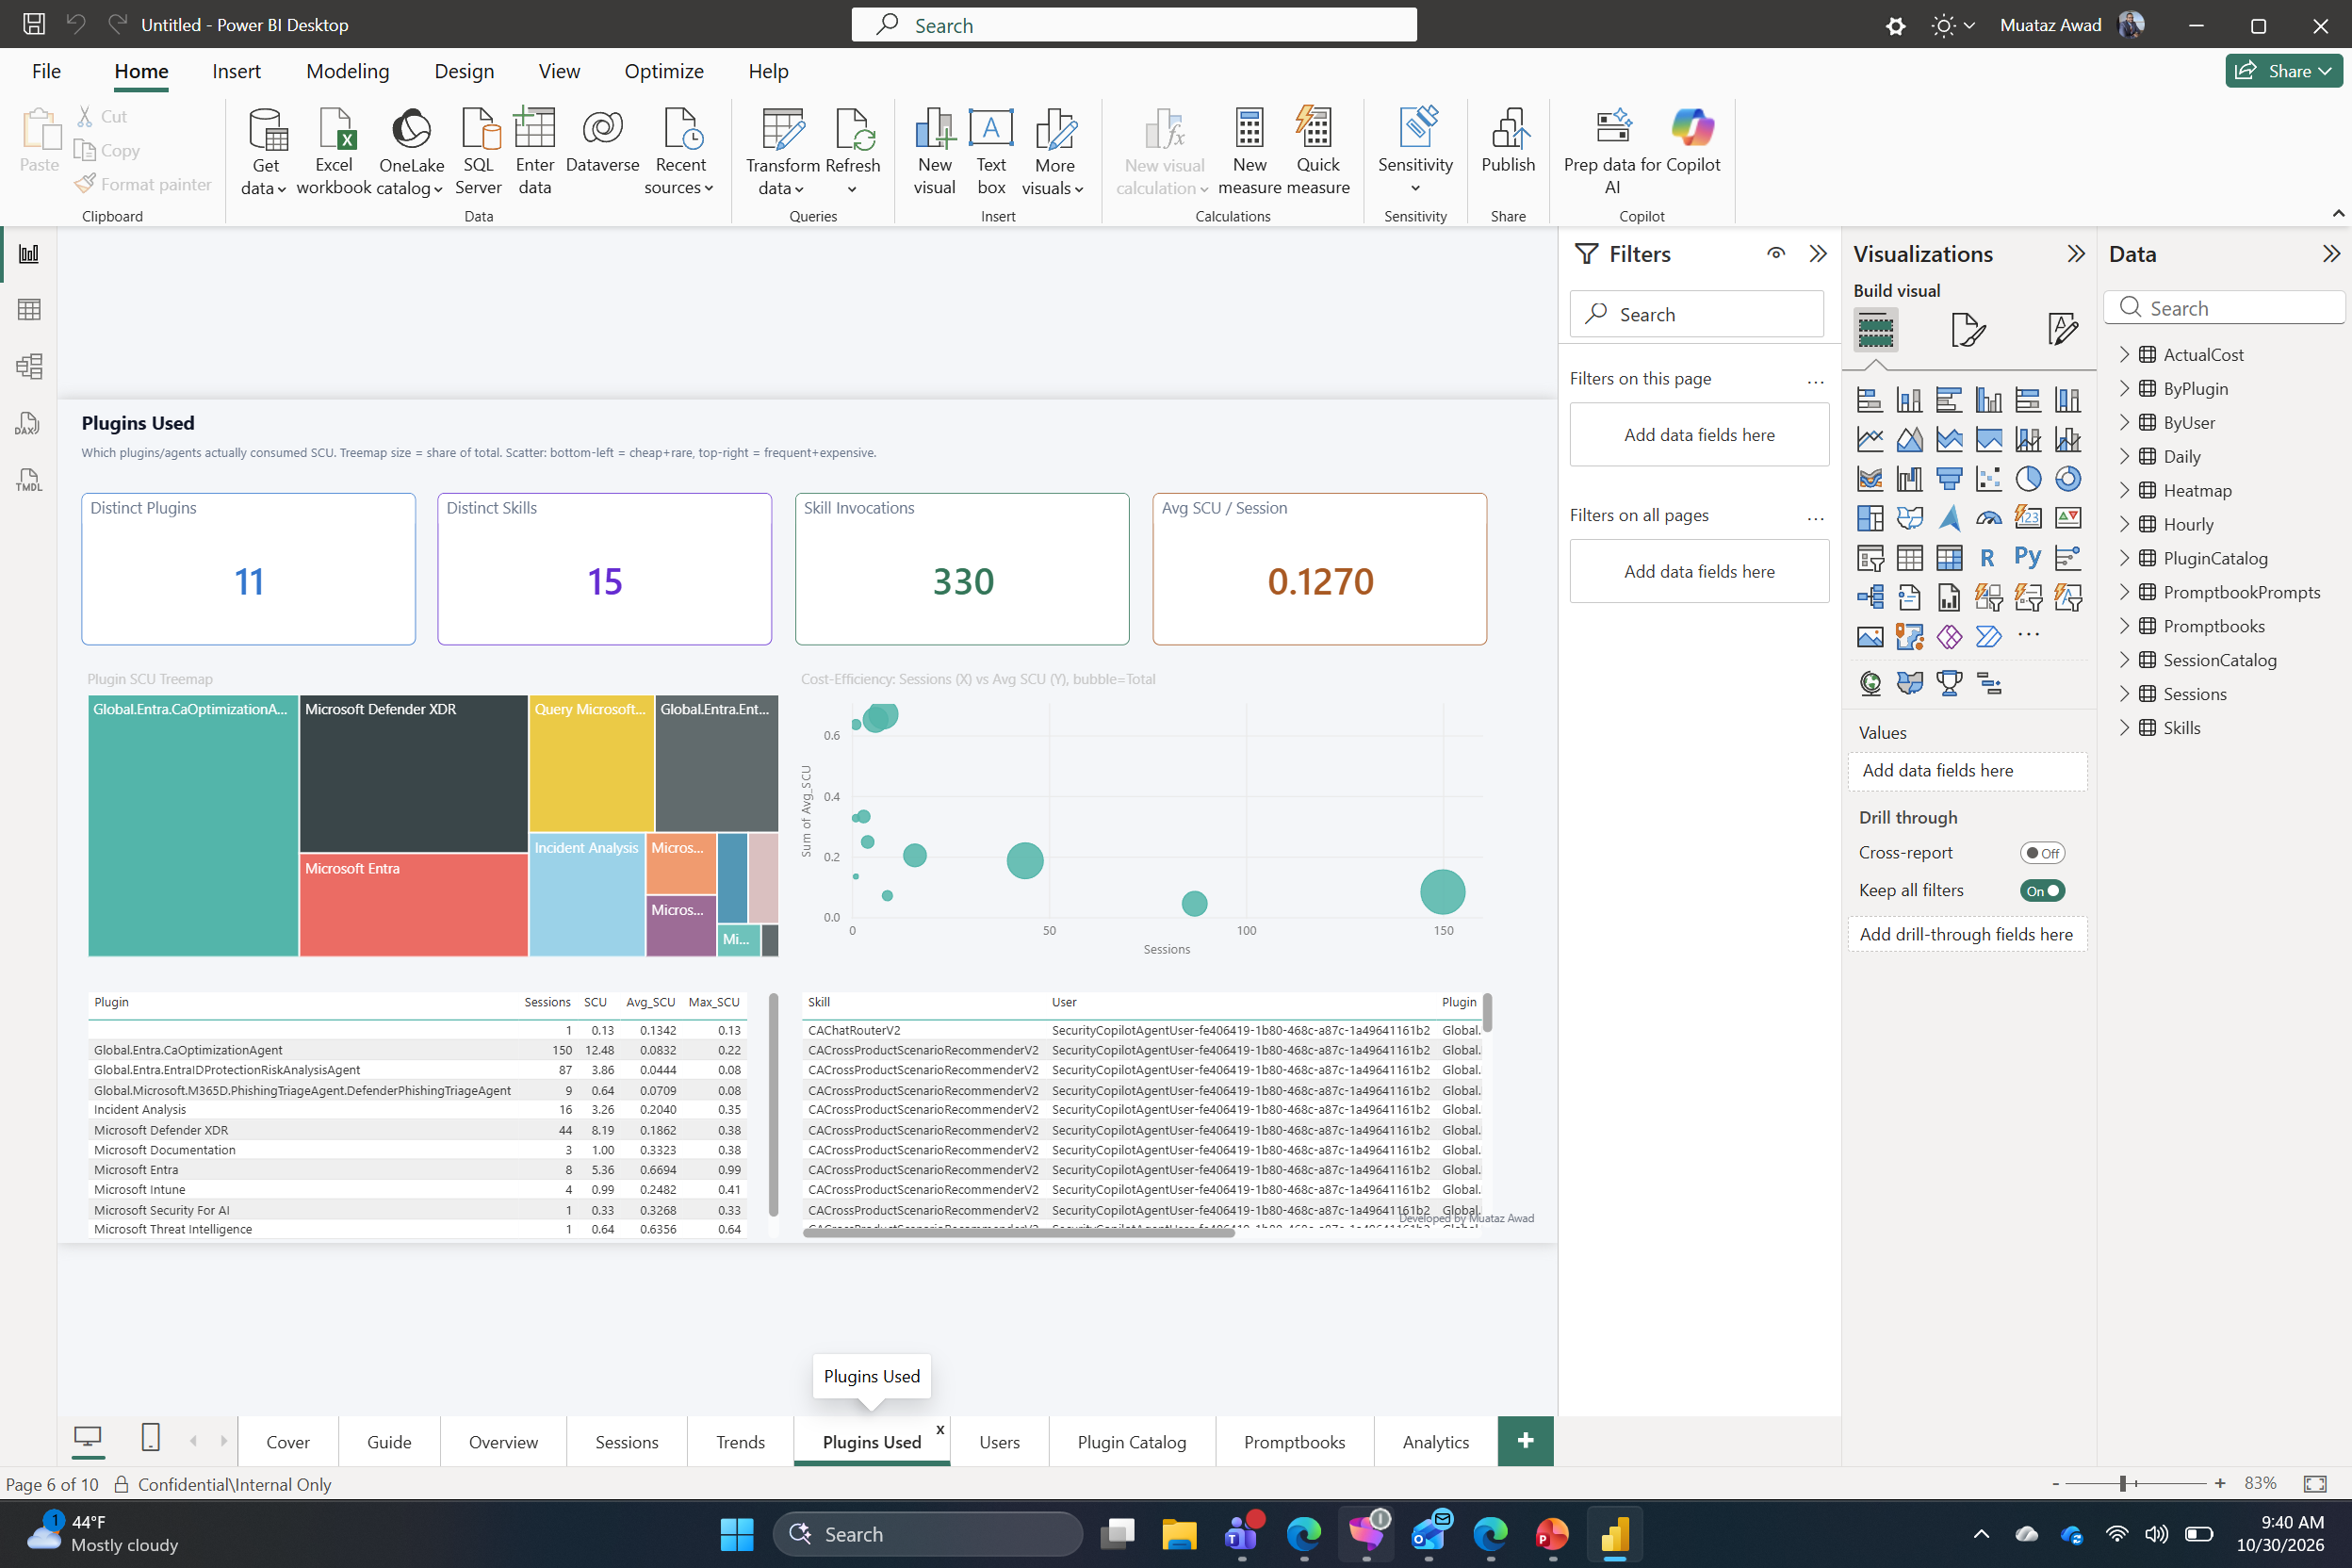

The dashboard page shown, as its layout file describes it:
{"tool":"powerbi","page":{"name":"Plugins Used","canvas":[1280,720],"ordinal":5},"visuals":[{"type":"textbox","box":[20,8,1240,32],"z":0},{"type":"textbox","box":[20,34,1240,24],"z":0},{"type":"card","title":"Distinct Plugins","fields":{"Values":["Sessions.Distinct Plugins"]},"box":[20,80,285,130],"z":0},{"type":"card","title":"Distinct Skills","fields":{"Values":["Skills.Distinct Skills"]},"box":[325,80,285,130],"z":0},{"type":"card","title":"Skill Invocations","fields":{"Values":["Skills.Skill Invocations"]},"box":[630,80,285,130],"z":0},{"type":"card","title":"Avg SCU / Session","fields":{"Values":["Sessions.Avg SCU per Session"]},"box":[935,80,285,130],"z":0},{"type":"treemap","title":"Plugin SCU Treemap","fields":{"Group":["ByPlugin.Plugin"],"Values":["Sum(ByPlugin.SCU)"]},"box":[20,230,600,250],"z":0},{"type":"scatterChart","title":"Cost-Efficiency: Sessions (X) vs Avg SCU (Y), bubble=Total","fields":{"Category":["ByPlugin.Plugin"],"X":["Sum(ByPlugin.Sessions)"],"Y":["Sum(ByPlugin.Avg_SCU)"],"Size":["Sum(ByPlugin.SCU)"]},"box":[630,230,600,250],"z":0},{"type":"tableEx","title":"Plugins/Agents Detail","fields":{"Values":["ByPlugin.Plugin","ByPlugin.Sessions","ByPlugin.SCU","ByPlugin.Avg_SCU","ByPlugin.Max_SCU"]},"box":[20,500,600,220],"z":0},{"type":"tableEx","title":"Skills (raw invocations)","fields":{"Values":["Skills.Skill","Skills.User","Skills.Plugin","Skills.Date","Skills.SCU_Session"]},"box":[630,500,600,220],"z":0},{"type":"textbox","box":[1060,686,200,22],"z":0}]}

Visuals, with their boxes on the page's 1280x720 design canvas (x1, y1, x2, y2). These are canvas units, not pixel positions in the 2352x1568 screenshot, which may show the page scaled, cropped or inside an application window:
textbox: 20:8:1260:40
textbox: 20:34:1260:58
"Distinct Plugins" card: 20:80:305:210
"Distinct Skills" card: 325:80:610:210
"Skill Invocations" card: 630:80:915:210
"Avg SCU / Session" card: 935:80:1220:210
"Plugin SCU Treemap" treemap: 20:230:620:480
"Cost-Efficiency: Sessions (X) vs Avg SCU (Y), bubble=Total" scatterChart: 630:230:1230:480
"Plugins/Agents Detail" tableEx: 20:500:620:720
"Skills (raw invocations)" tableEx: 630:500:1230:720
textbox: 1060:686:1260:708
